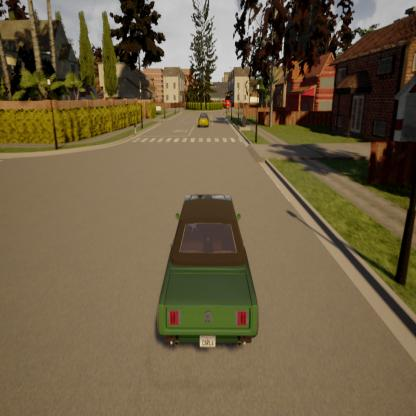Cars: (155, 189, 266, 362), (196, 108, 212, 130)
Pedestrian: (131, 122, 140, 143)
